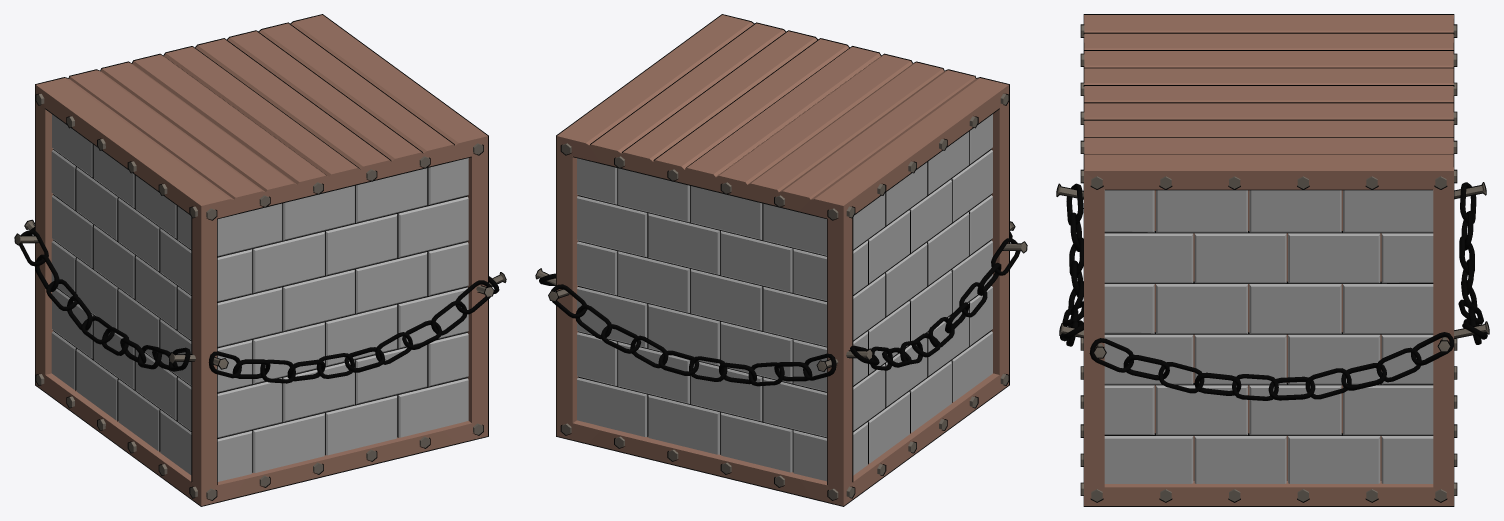
Rendered from Platform3.fbx.
3 views of the same model, side by side, from view 1: azimuth 30°, elevation 25°; view 2: azimuth 150°, elevation 25°; view 3: azimuth 270°, elevation 25° (orthographic). The views are drawn at different scales.
Visible parts, largest first — view 1: Cube.001; view 2: Cube.001; view 3: Cube.001.
Boxes of the visible parts, x1,y1,x2,y2 form: Cube.001: (14,14,506,506); Cube.001: (535,14,1027,506); Cube.001: (1056,14,1489,506).
Bounding box in the file's own units: 232 × 200 × 234.
